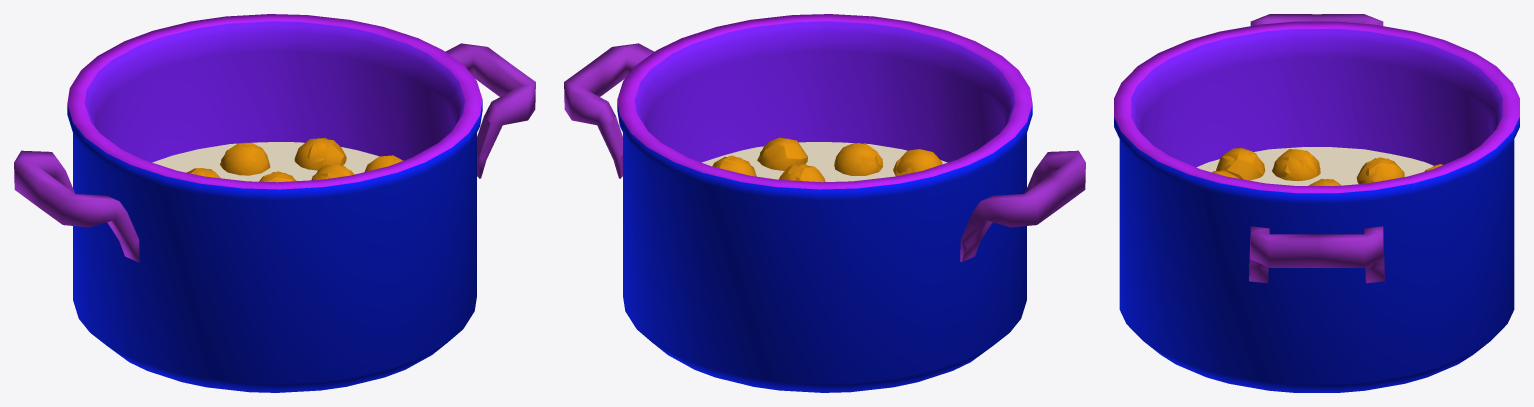
The model's file is bitterballen_pot_cooked_model.fbx.
The picture shows the model from 3 angles, left to right: view 1: azimuth 30°, elevation 25°; view 2: azimuth 150°, elevation 25°; view 3: azimuth 270°, elevation 25°; orthographic projection.
Parts seen in each view (by area): view 1: BitterballenPotCookedPot, BitterballenPotCookedOil, BitterballenInPotModel_05, BitterballenInPotModel_04, BitterballenInPotModel_01; view 2: BitterballenPotCookedPot, BitterballenPotCookedOil, BitterballenInPotModel_04, BitterballenInPotModel_05, BitterballenInPotModel_06, BitterballenInPotModel_02, BitterballenInPotModel_03; view 3: BitterballenPotCookedPot, BitterballenPotCookedOil, BitterballenInPotModel_01, BitterballenInPotModel_03, BitterballenInPotModel_02.
Part boxes in pixels (bbox=[...]): BitterballenPotCookedPot: bbox=[14, 14, 535, 392]; BitterballenPotCookedOil: bbox=[152, 142, 378, 181]; BitterballenInPotModel_05: bbox=[220, 142, 270, 175]; BitterballenInPotModel_04: bbox=[294, 137, 346, 170]; BitterballenInPotModel_01: bbox=[186, 165, 354, 180]; BitterballenPotCookedPot: bbox=[564, 14, 1085, 392]; BitterballenPotCookedOil: bbox=[702, 142, 947, 181]; BitterballenInPotModel_04: bbox=[834, 143, 882, 175]; BitterballenInPotModel_05: bbox=[757, 137, 807, 170]; BitterballenInPotModel_06: bbox=[893, 149, 942, 176]; BitterballenInPotModel_02: bbox=[779, 163, 825, 182]; BitterballenInPotModel_03: bbox=[712, 155, 756, 176]; BitterballenPotCookedPot: bbox=[1114, 14, 1519, 392]; BitterballenPotCookedOil: bbox=[1196, 147, 1433, 185]; BitterballenInPotModel_01: bbox=[1272, 149, 1320, 181]; BitterballenInPotModel_03: bbox=[1216, 148, 1442, 180]; BitterballenInPotModel_02: bbox=[1356, 157, 1404, 184].
Bounding box in the file's own units: 62.94 × 83.38 × 35.99.
